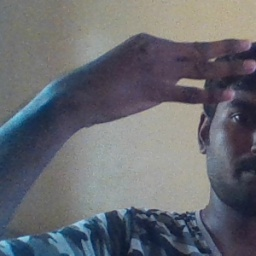K: (88, 32, 256, 115)
